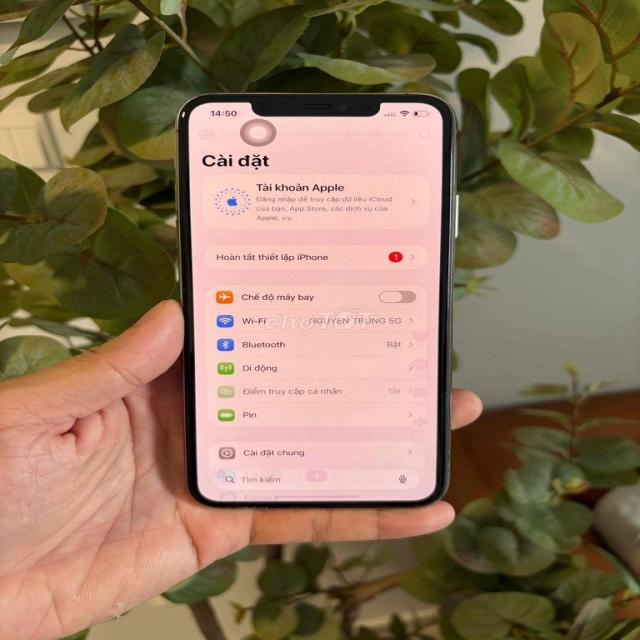gen_11: (174, 79, 466, 516)
